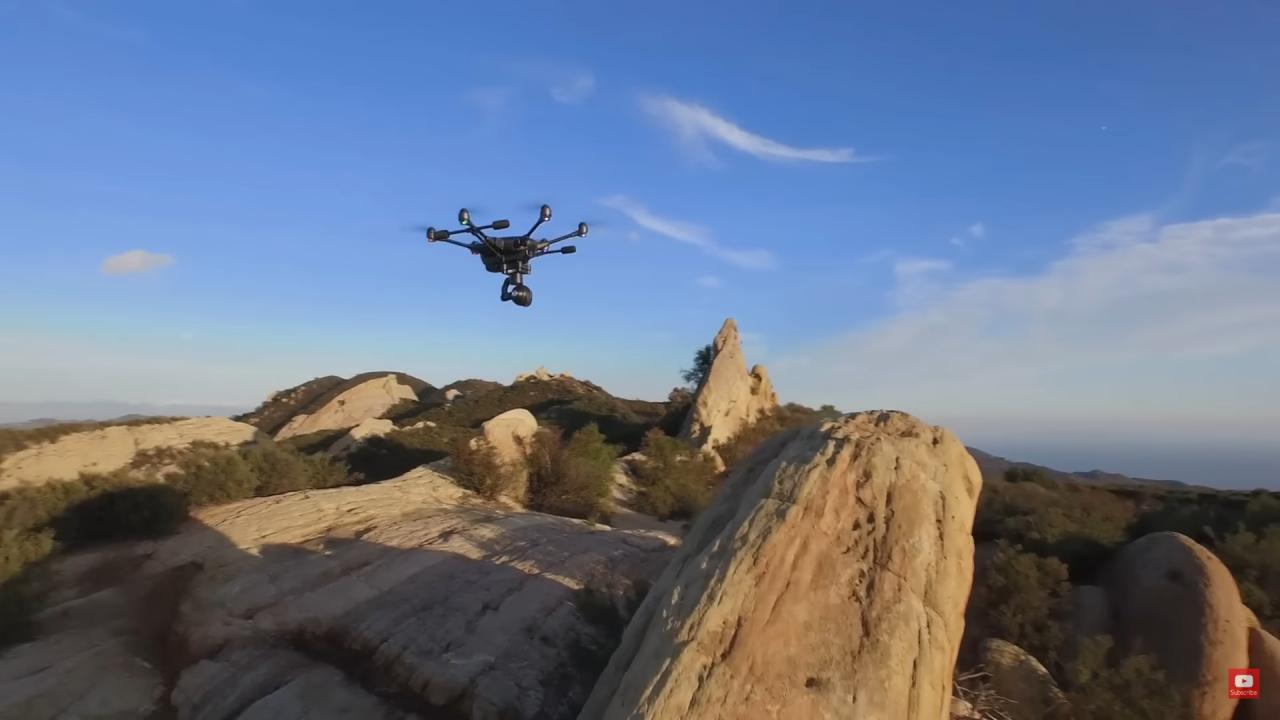Drone: (396, 200, 622, 315)
